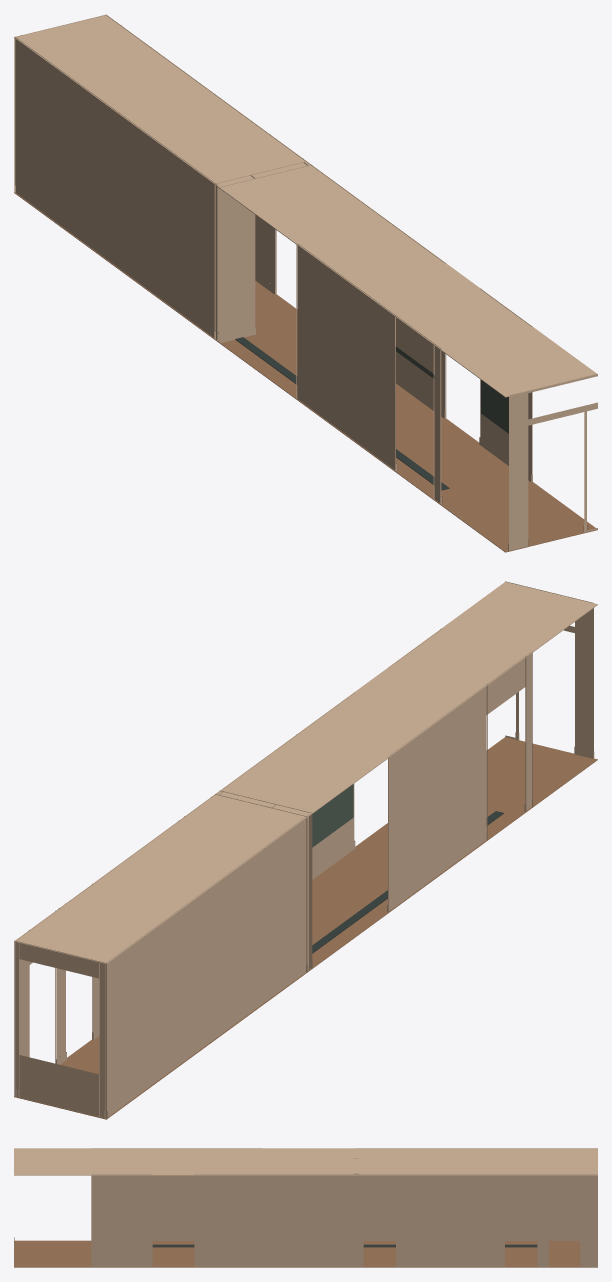
The model's file is corridor-3.glb.
3 views of the same model, one above another, from view 1: azimuth 30°, elevation 25°; view 2: azimuth 150°, elevation 25°; view 3: azimuth 270°, elevation 25° (orthographic). The views are drawn at different scales.
Parts seen in each view (by area): view 1: DESIGN | corridor removable wall finish, DESIGN | corridor ceiling finish, DESIGN | corridor floor finish, DESIGN | Maker cork display field.003, DESIGN | Maker long inlaid floor strip; view 2: DESIGN | corridor removable wall finish, DESIGN | corridor ceiling finish, DESIGN | corridor floor finish, DESIGN | Maker cork display field.002, DESIGN | Maker long inlaid floor strip; view 3: DESIGN | corridor removable wall finish, DESIGN | corridor ceiling finish, DESIGN | corridor floor finish, DESIGN | Maker long inlaid floor strip.
Part boxes in pixels (x1,y1,x2,y2): DESIGN | corridor removable wall finish: (14, 14, 597, 550); DESIGN | corridor ceiling finish: (14, 15, 597, 397); DESIGN | corridor floor finish: (14, 192, 597, 552); DESIGN | Maker cork display field.003: (481, 380, 508, 433); DESIGN | Maker long inlaid floor strip: (235, 337, 449, 490); DESIGN | corridor removable wall finish: (14, 581, 594, 1118); DESIGN | corridor ceiling finish: (14, 582, 597, 964); DESIGN | corridor floor finish: (14, 737, 597, 1119); DESIGN | Maker cork display field.002: (312, 784, 353, 847); DESIGN | Maker long inlaid floor strip: (312, 811, 503, 953); DESIGN | corridor removable wall finish: (14, 1148, 597, 1267); DESIGN | corridor ceiling finish: (14, 1148, 597, 1175); DESIGN | corridor floor finish: (14, 1240, 597, 1267); DESIGN | Maker long inlaid floor strip: (152, 1244, 537, 1247).
Bounding box in the file's own units: 1.7 × 2.74 × 15.63.
